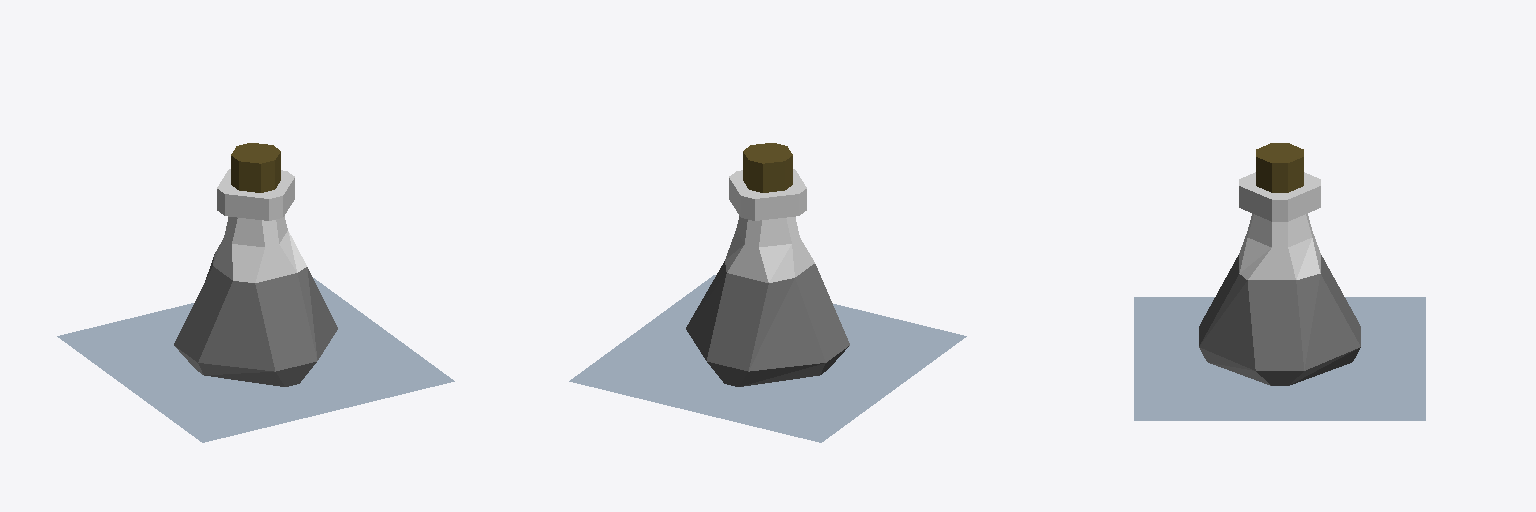
3 views of the same model, side by side, from view 1: azimuth 30°, elevation 25°; view 2: azimuth 150°, elevation 25°; view 3: azimuth 270°, elevation 25° (orthographic).
Parts seen in each view (by area): view 1: runescapemodel; view 2: runescapemodel; view 3: runescapemodel.
Part boxes in pixels (left/top/right/bottom): runescapemodel: left=57, top=143, right=454, bottom=442; runescapemodel: left=569, top=143, right=966, bottom=442; runescapemodel: left=1134, top=143, right=1425, bottom=420.
Bounding box in the file's own units: 36 × 28 × 36.